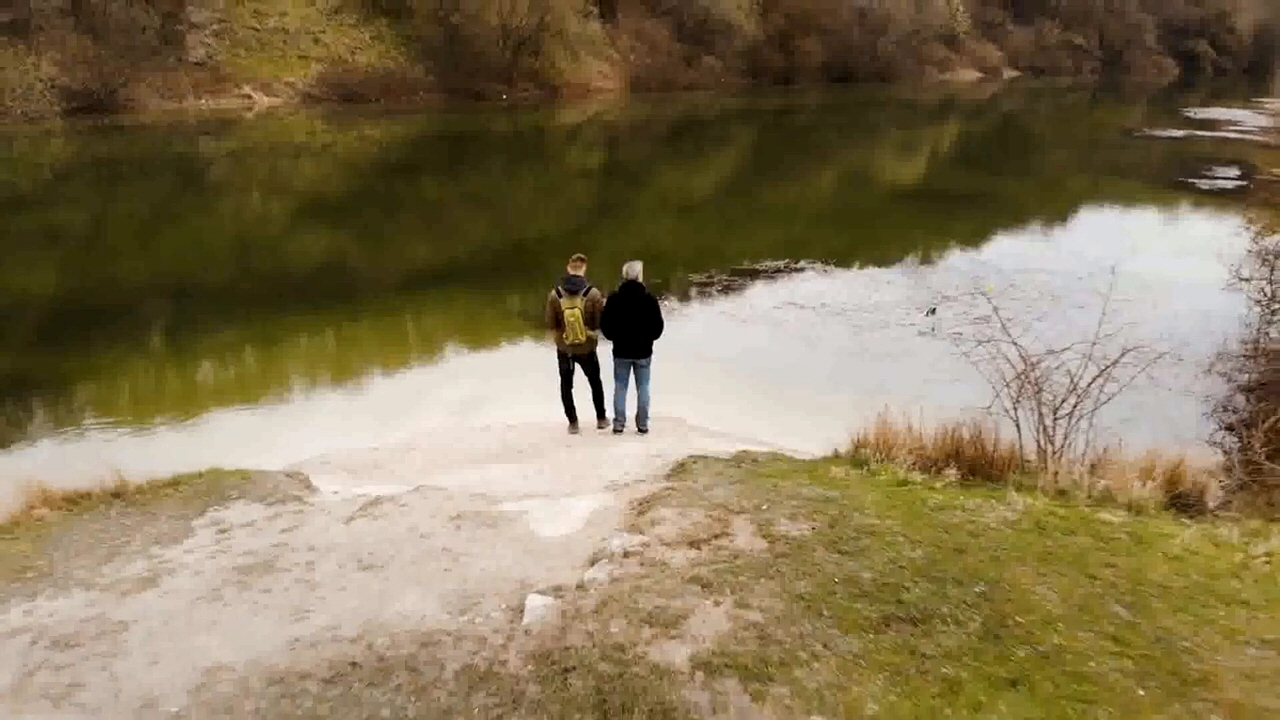insan: (544, 247, 609, 433), (608, 254, 663, 438)
